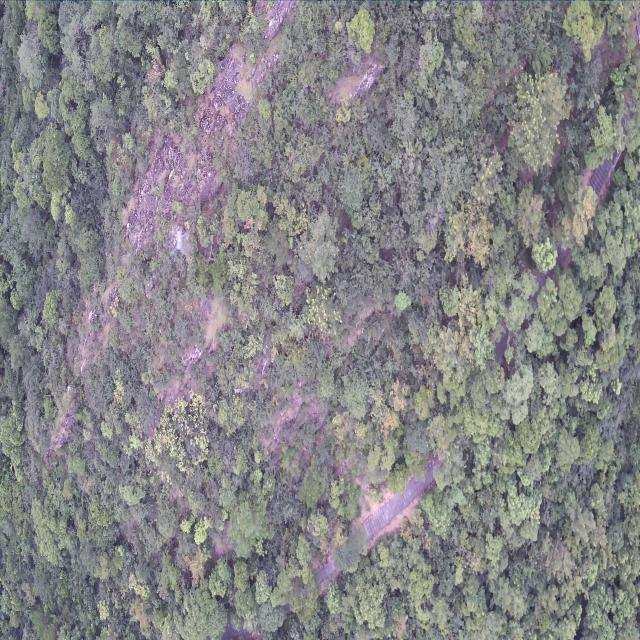UAV: (169, 229, 187, 255)
